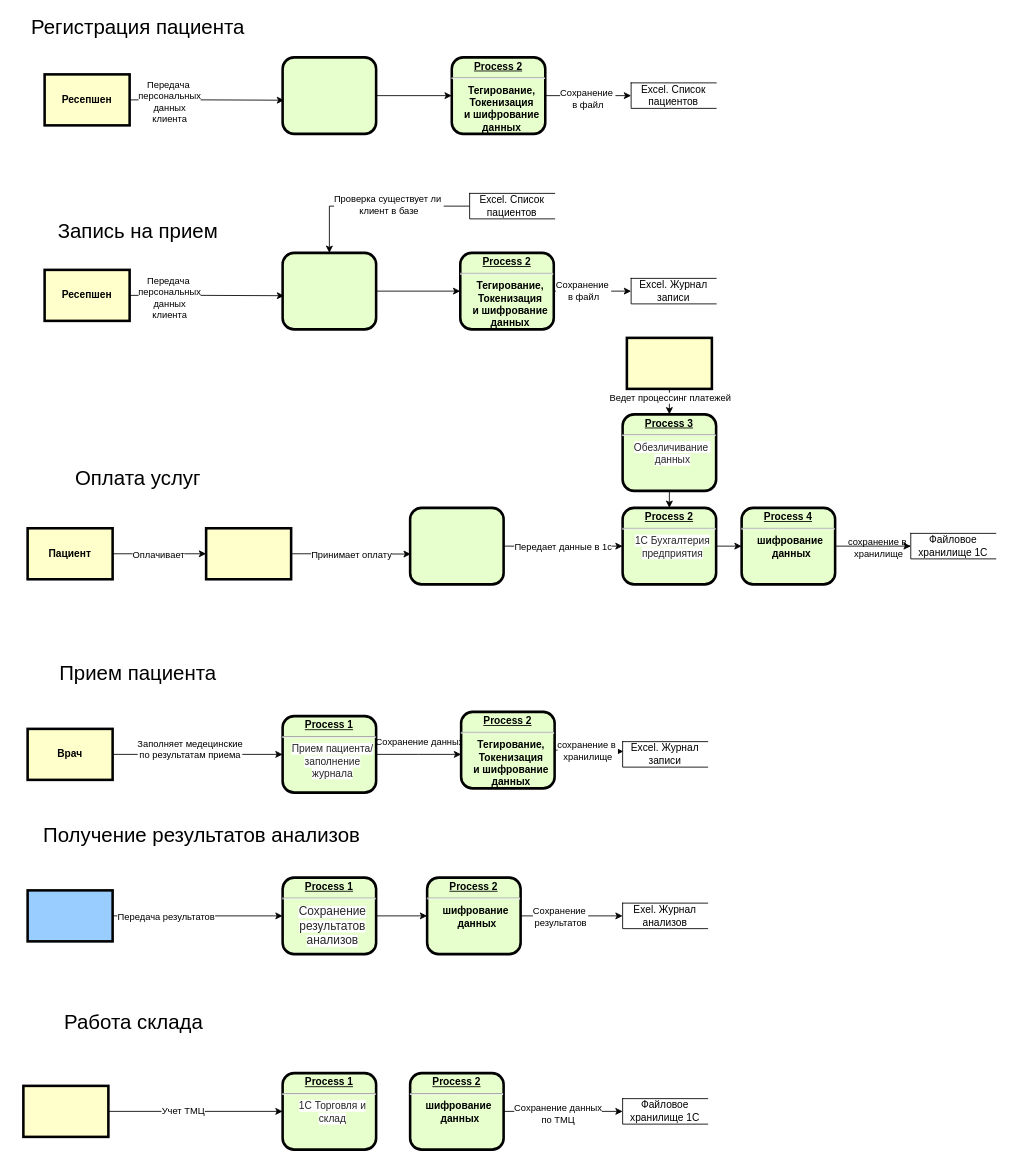
The diagram is 1011 pixels wide and 1165 high, and some of its shapes have lost their labels. The shapes that lost their labels are listed below. From the top down, each one's box as (x1, y1, x2, y2) in pixels, then its label:
(281, 56, 377, 135): Process 1 Регистрация пациента
(281, 251, 377, 330): Process 1 Запись пациента к специалисту
(625, 336, 713, 390): Бухгалтер
(204, 527, 292, 580): Кассир
(408, 506, 504, 585): Process 1 контрольно-кассовые машины
(26, 889, 113, 942): Медецинская лаборатория
(22, 1084, 109, 1138): Сотрудник склада
